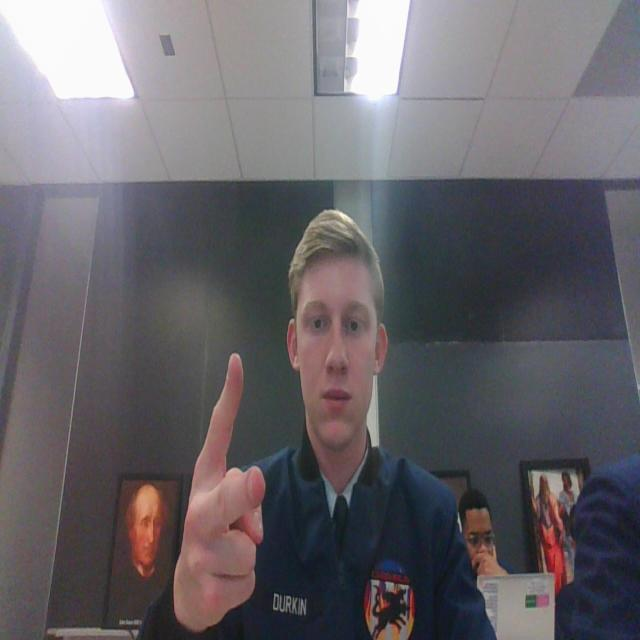scissors: (165, 338, 268, 637)
